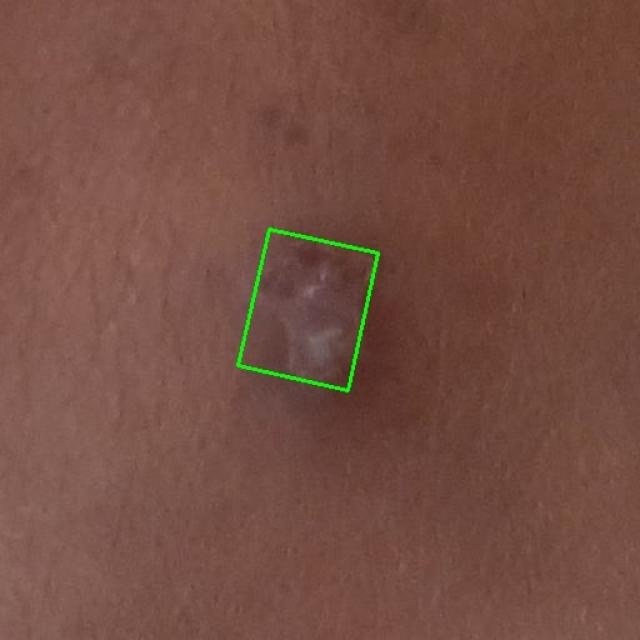Contact Dermatitis: (238, 229, 379, 390)
